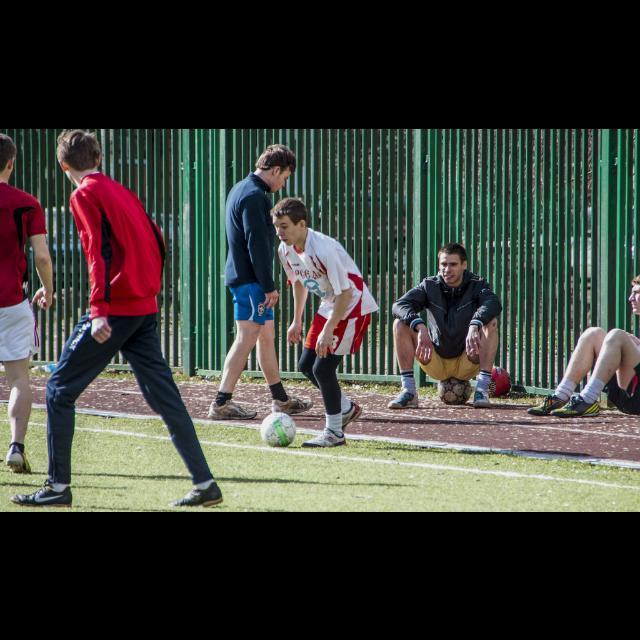Football: (260, 411, 298, 445), (474, 364, 514, 394), (436, 375, 472, 405)
